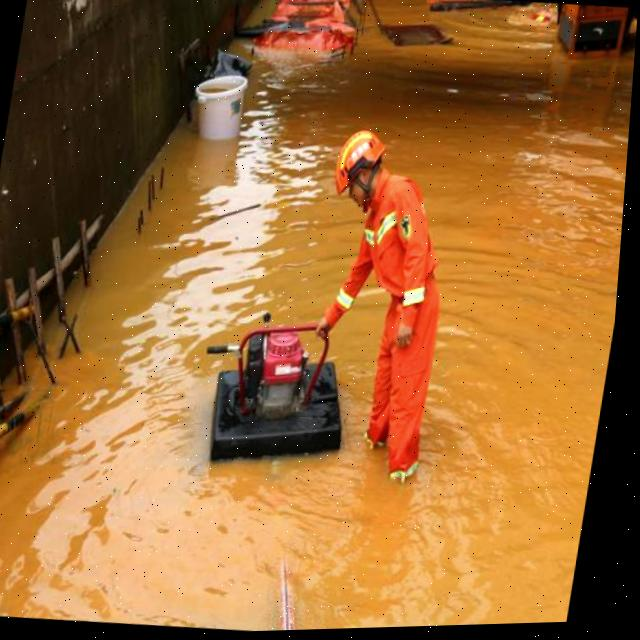rescuer: (260, 108, 512, 519)
